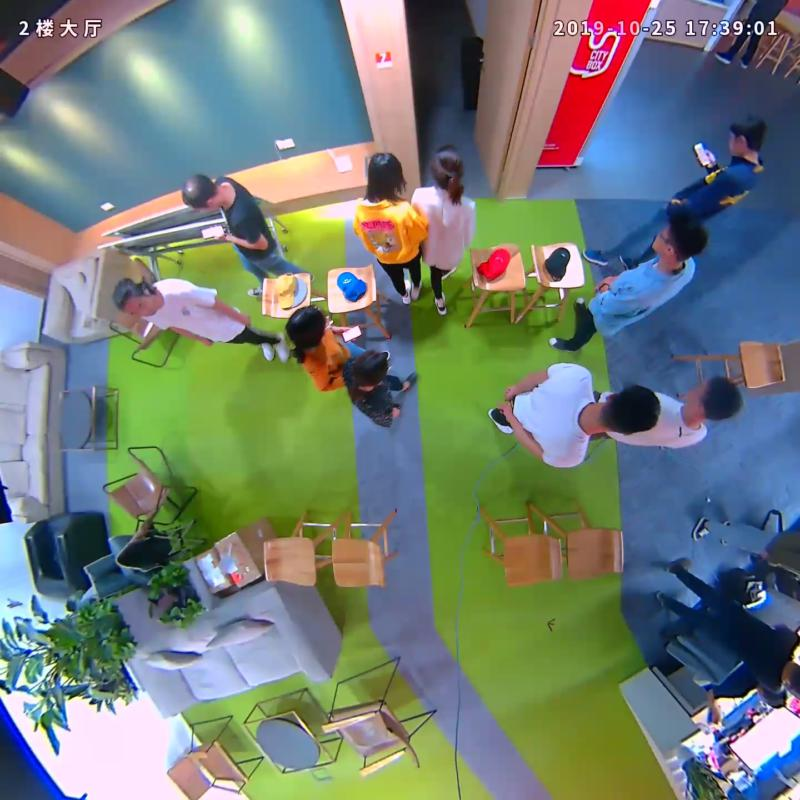head: (601, 384, 663, 436), (650, 214, 708, 261), (683, 377, 742, 421), (728, 113, 765, 159), (285, 306, 325, 348), (113, 279, 157, 317), (367, 152, 405, 196), (180, 173, 221, 213), (431, 145, 464, 188), (353, 351, 389, 389)
